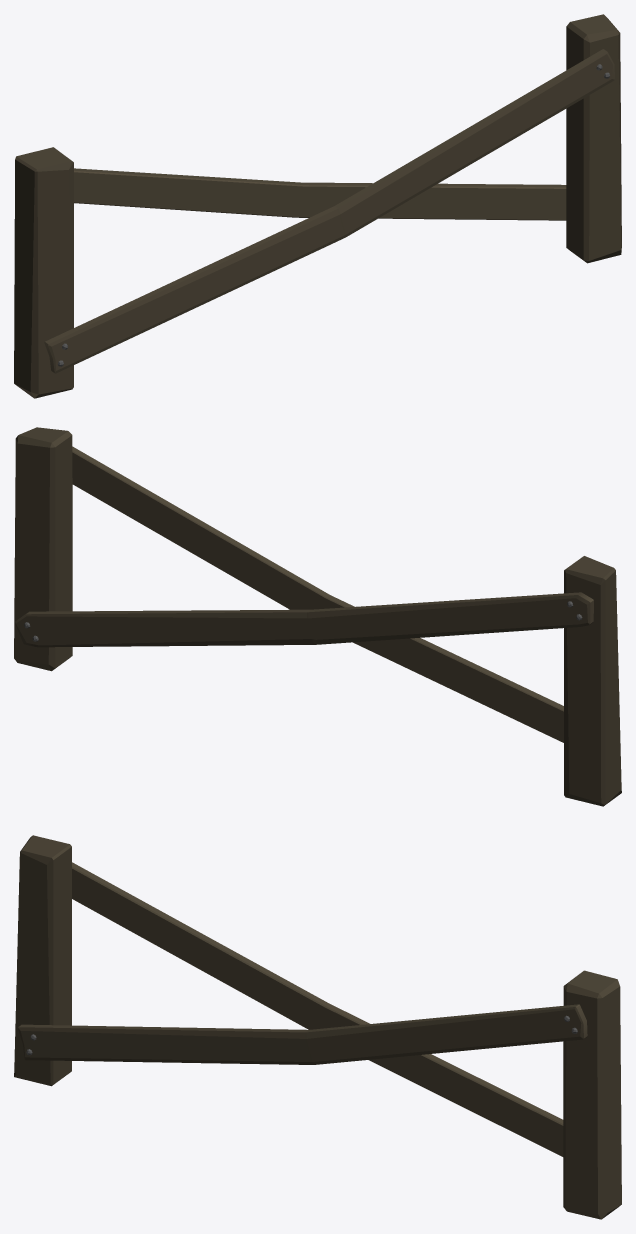
The model's file is I_ShortFence.fbx.
3 renders of one model, top to bottom at view 1: azimuth 30°, elevation 25°; view 2: azimuth 150°, elevation 25°; view 3: azimuth 330°, elevation 25°, orthographic.
Visible parts, largest first — view 1: ShortFence1; view 2: ShortFence1; view 3: ShortFence1.
Part boxes in pixels (x1,y1,x2,y2): ShortFence1: (14, 14, 621, 398); ShortFence1: (14, 427, 621, 806); ShortFence1: (14, 835, 621, 1219).
Bounding box in the file's own units: 5.26 × 1.94 × 0.5051.
